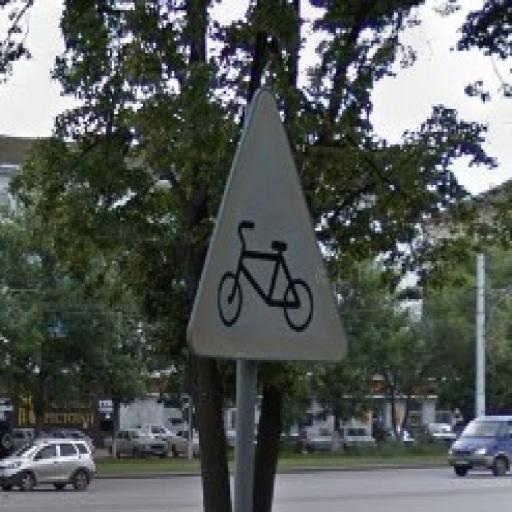traffic_sign: (171, 93, 349, 364)
